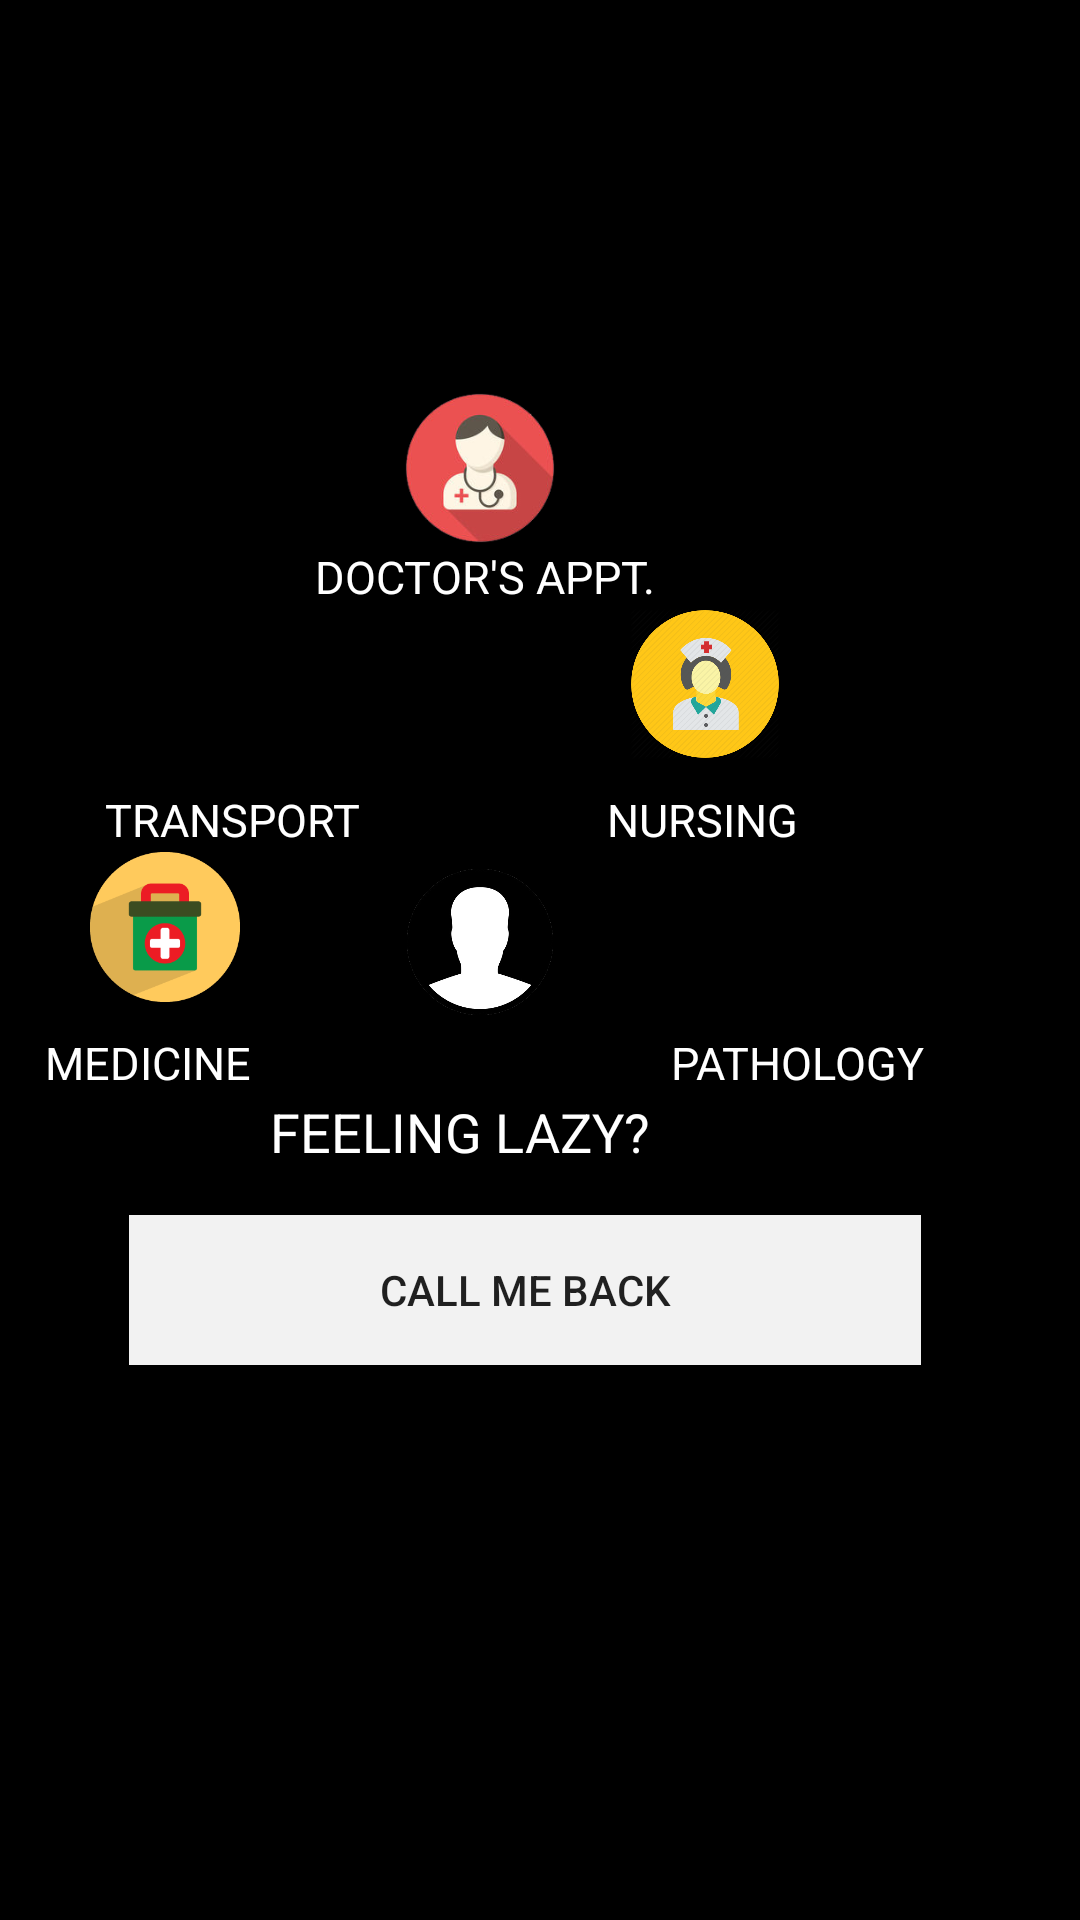

Where icons sit on this 1080 × 1920 app screen, as Rect(x1, y1, x2, y2):
contact: Rect(407, 869, 553, 1015)
